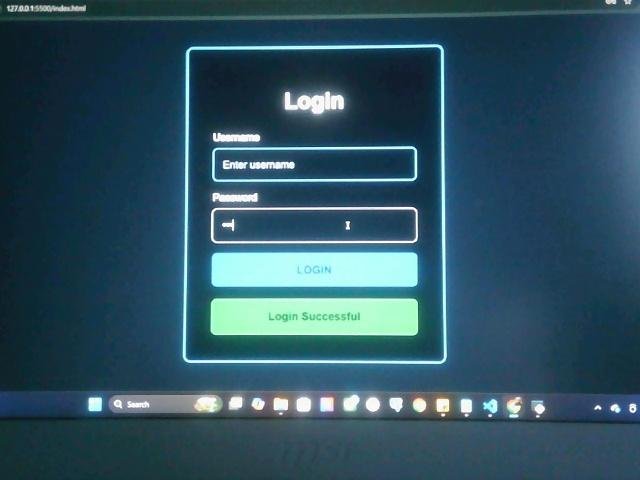login_button: (211, 251, 419, 287)
login_form: (185, 45, 446, 365)
password_input: (211, 207, 420, 244)
success_alert: (210, 297, 418, 336)
title_text: (282, 87, 347, 117)
username_input: (212, 146, 418, 182)
